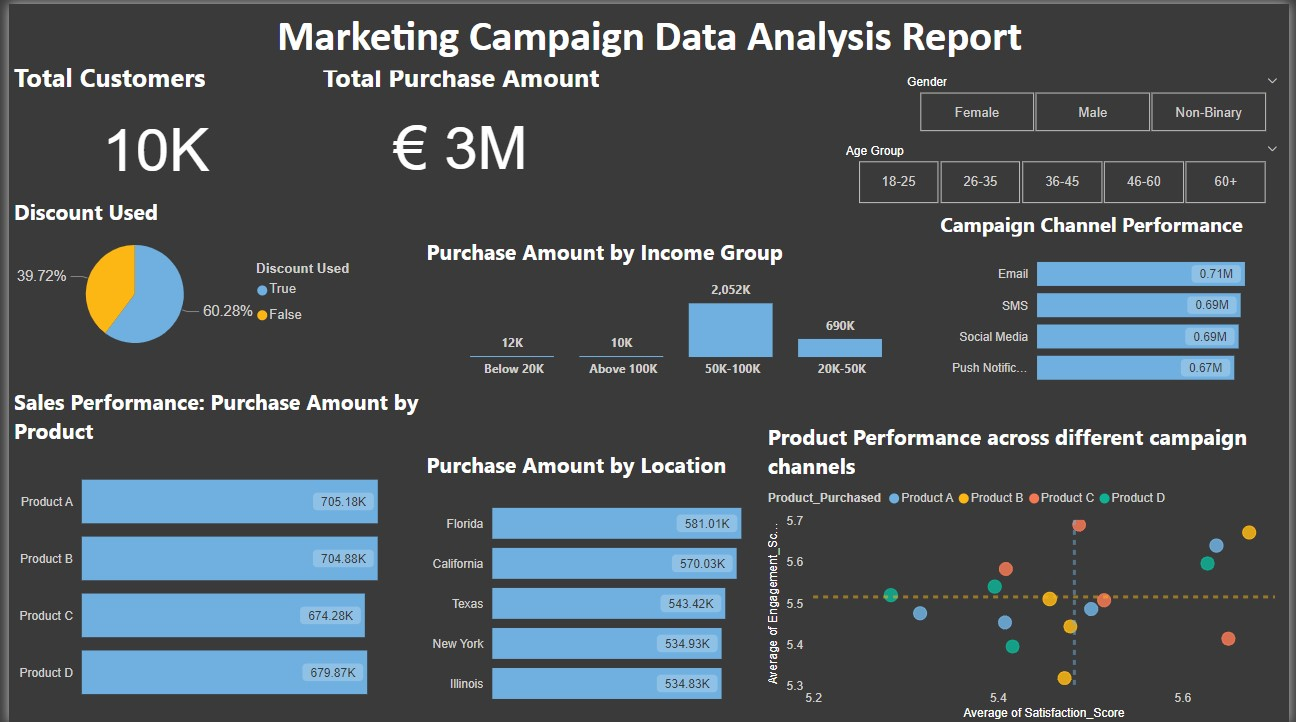

The dashboard page shown, as its layout file describes it:
{"tool":"powerbi","page":{"name":"Executive Summary","canvas":[1280,720],"ordinal":0},"visuals":[{"type":"slicer","fields":{"Values":["marketing_campaign_data.Age Group"]},"box":[883.7,122.3,395.8,71.4],"z":0},{"type":"actionButton","box":[0,0,100,40],"z":1000},{"type":"card","title":"Total Sales","fields":{"Values":["marketing_campaign_data.Total Purchase Amount"]},"box":[268,58,232,135],"z":2000},{"type":"textbox","title":"Marketing Campaign Data Analysis Report","box":[0,0,1280.7,39.9],"z":3000},{"type":"clusteredBarChart","title":"Sales Performance: Purchase Amount by Product","fields":{"Category":["marketing_campaign_data.Product_Purchased"],"Y":["marketing_campaign_data.Total Purchase Amount"]},"box":[0,381.9,425,337.5],"z":4000},{"type":"pieChart","title":"Discount Used","fields":{"Y":["Count(marketing_campaign_data.Customer_ID)"],"Category":["marketing_campaign_data.Discount_Used"]},"box":[0,193.1,361.1,166.7],"z":5000},{"type":"slicer","fields":{"Values":["marketing_campaign_data.Gender"]},"box":[953.9,56.9,325.6,67.8],"z":6000},{"type":"card","title":"Total Customers","fields":{"Values":["Count(marketing_campaign_data.Customer_ID)"]},"box":[14.9,54.1,252.7,135.1],"z":7000},{"type":"clusteredBarChart","title":"Campaign Channel Performance","fields":{"Y":["marketing_campaign_data.Total Purchase Amount"],"Category":["marketing_campaign_data.Campaign_Channel"]},"box":[925.9,205.9,354.1,188.2],"z":8000},{"type":"clusteredColumnChart","title":"Purchase Amount by Income Group","fields":{"Y":["marketing_campaign_data.Total Purchase Amount"],"Category":["marketing_campaign_data.Income Group"]},"box":[360.7,193.7,513.3,150.1],"z":9000},{"type":"clusteredBarChart","title":"Purchase Amount by Location","fields":{"Category":["marketing_campaign_data.Location"],"Y":["marketing_campaign_data.Total Purchase Amount"]},"box":[412.5,383.8,371.2,333.8],"z":10000},{"type":"scatterChart","title":"Product Performance across different campaign channels ","fields":{"Y":["Avg(marketing_campaign_data.Engagement_Score)"],"Series":["marketing_campaign_data.Product_Purchased"],"X":["Avg(marketing_campaign_data.Satisfaction_Score)"],"Size":["Count(marketing_campaign_data.Customer_ID)"],"Category":["marketing_campaign_data.Campaign_Channel"]},"box":[755.4,394.6,507.2,325.6],"z":11000},{"type":"card","title":"Total Products","fields":{"Values":["Count(marketing_campaign_data.Product_Purchased)"]},"box":[511,60,225,131],"z":12000}]}

Visuals, with their boxes in screenshot pixels (x1, y1, x2, y2), scaled from the page's 1280x720 canvas onto the 1296x722 screenshot:
slicer - marketing_campaign_data.Age Group: [left=895, top=123, right=1295, bottom=194]
actionButton: [left=0, top=0, right=101, bottom=40]
"Total Sales" card: [left=271, top=58, right=506, bottom=194]
"Marketing Campaign Data Analysis Report" textbox: [left=0, top=0, right=1295, bottom=40]
"Sales Performance: Purchase Amount by Product" clusteredBarChart: [left=0, top=383, right=430, bottom=721]
"Discount Used" pieChart: [left=0, top=194, right=366, bottom=361]
slicer - marketing_campaign_data.Gender: [left=966, top=57, right=1295, bottom=125]
"Total Customers" card: [left=15, top=54, right=271, bottom=190]
"Campaign Channel Performance" clusteredBarChart: [left=937, top=206, right=1295, bottom=395]
"Purchase Amount by Income Group" clusteredColumnChart: [left=365, top=194, right=885, bottom=345]
"Purchase Amount by Location" clusteredBarChart: [left=418, top=385, right=793, bottom=720]
"Product Performance across different campaign channels " scatterChart: [left=765, top=396, right=1278, bottom=721]
"Total Products" card: [left=517, top=60, right=745, bottom=192]
